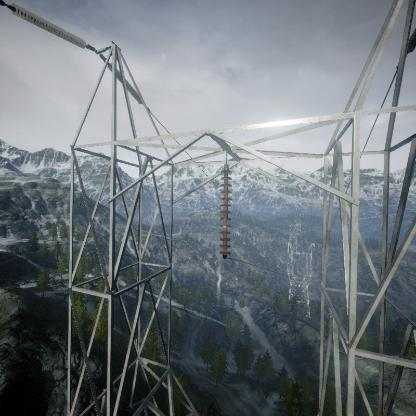insulator: (1, 1, 92, 50), (219, 163, 232, 257)
tower: (284, 239, 318, 322)
